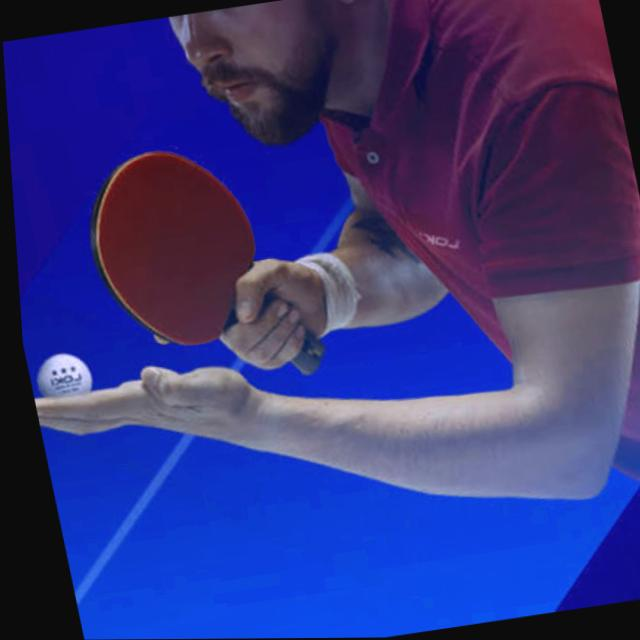TT Racket: (48, 122, 299, 366)
